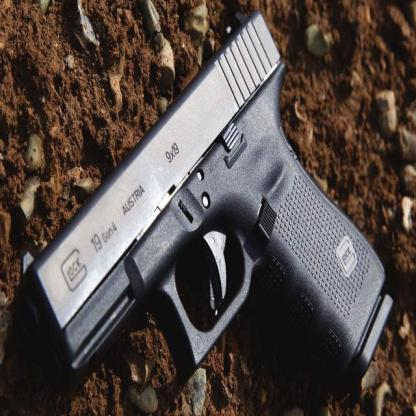handgun: (20, 2, 404, 416)
